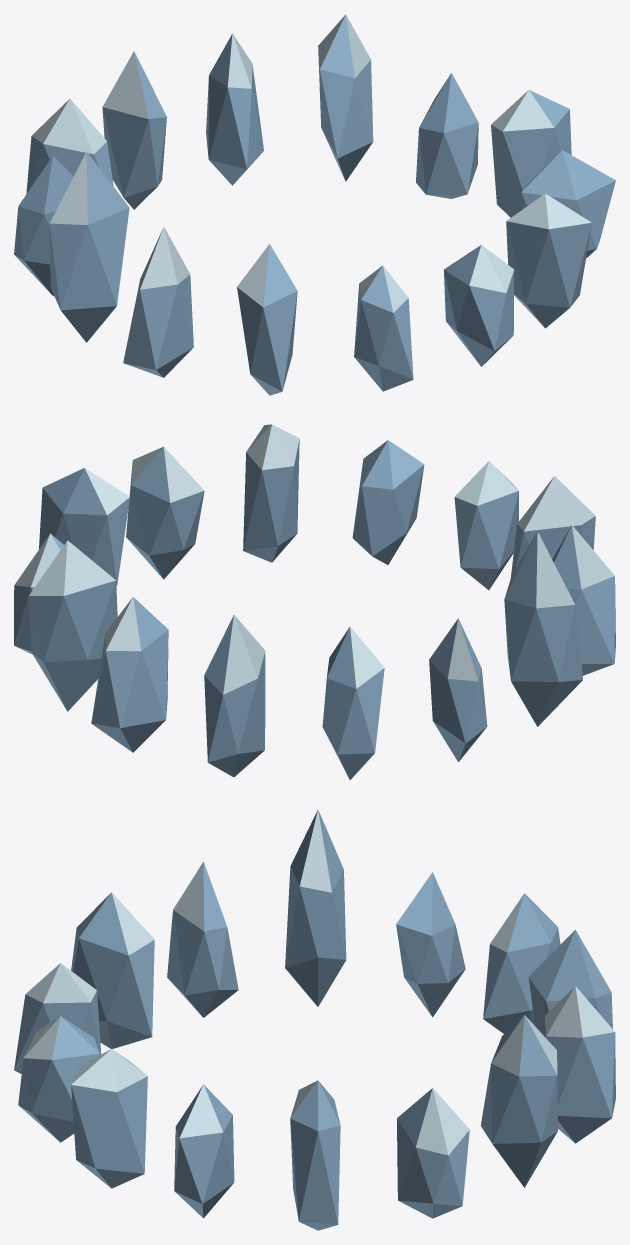
The model's file is glass_ring.glb.
The picture shows the model from 3 angles, top to bottom: view 1: azimuth 30°, elevation 25°; view 2: azimuth 150°, elevation 25°; view 3: azimuth 270°, elevation 25°; orthographic projection. The views are drawn at different scales.
Visible parts, largest first — view 1: glass_ring; view 2: glass_ring; view 3: glass_ring.
Part boxes in pixels (x1,y1,x2,y2): glass_ring: (14, 14, 615, 395); glass_ring: (14, 424, 615, 779); glass_ring: (14, 809, 615, 1230).
Size of the model in its own units: 0.9881 by 0.3481 by 0.9575.
